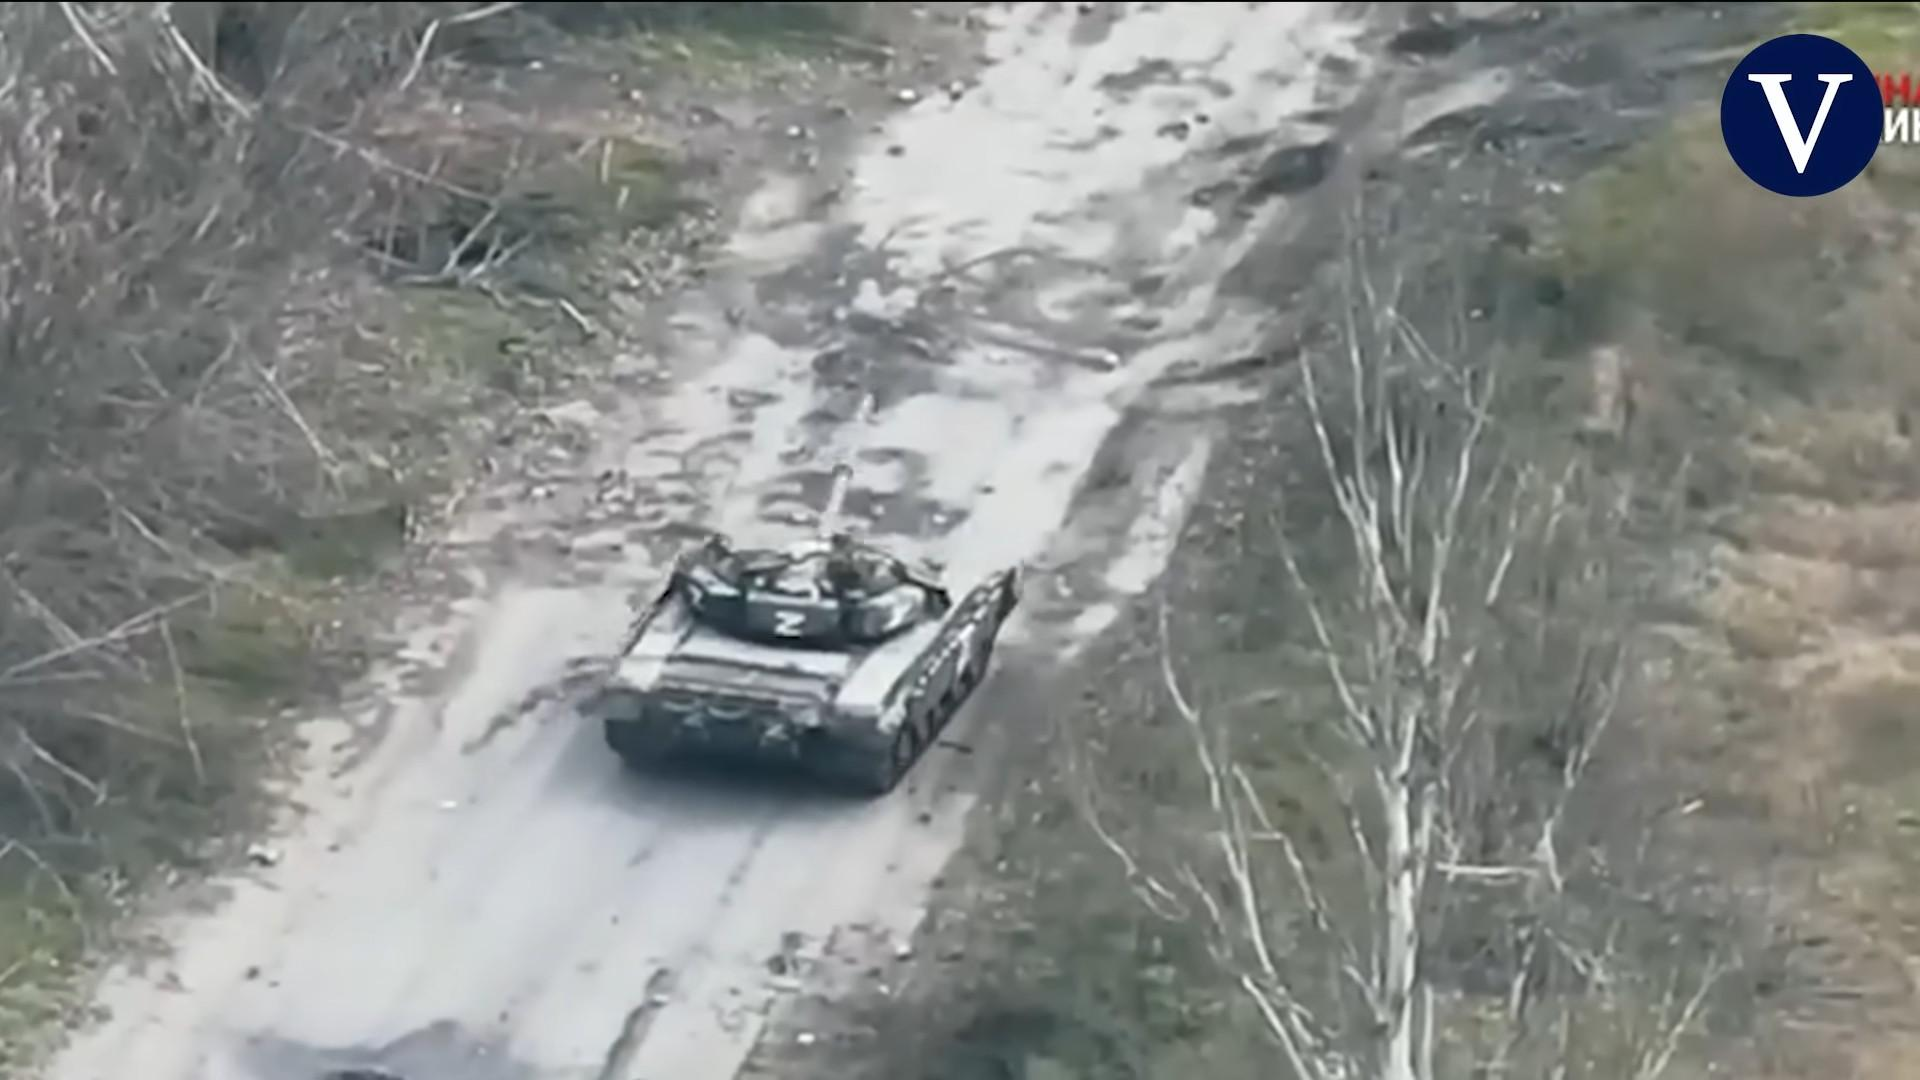tank: (605, 394, 1025, 790)
